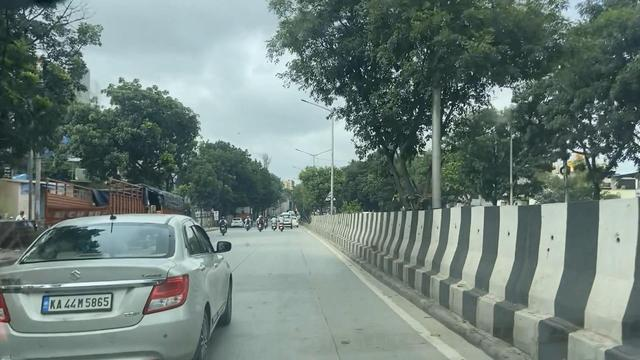LMV: (8, 213, 242, 360)
